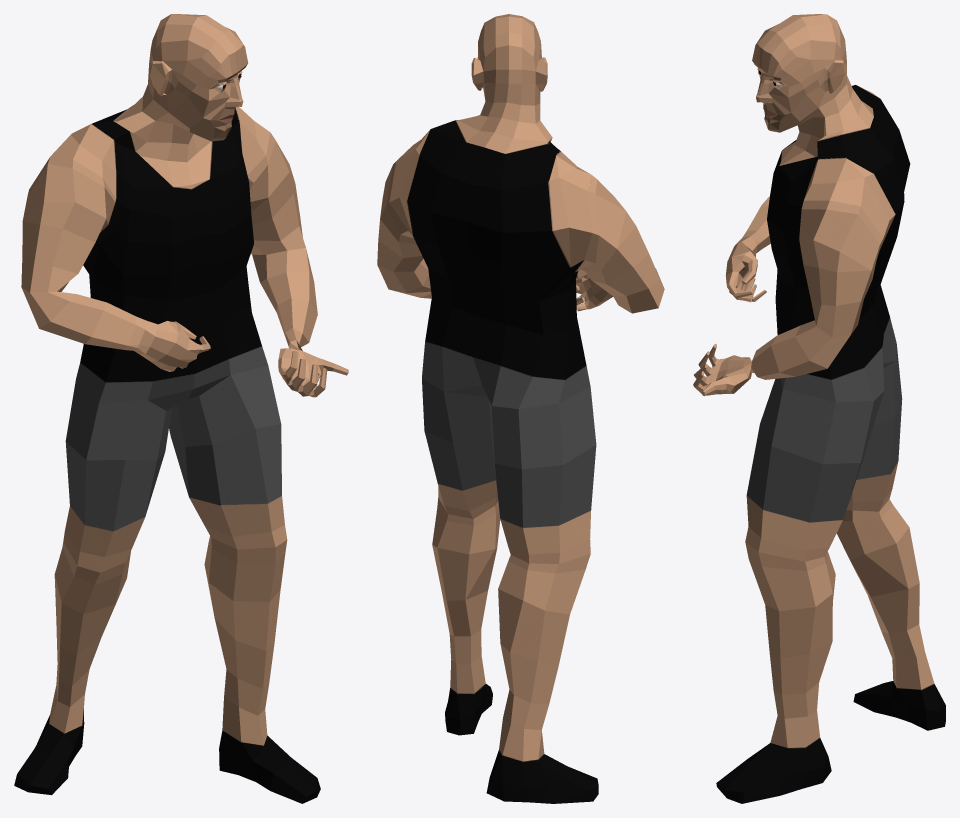
File: PlayerIdle(114).obj
The picture shows the model from 3 angles, left to right: view 1: azimuth 30°, elevation 25°; view 2: azimuth 150°, elevation 25°; view 3: azimuth 270°, elevation 25°; orthographic projection. The views are drawn at different scales.
Parts seen in each view (by area): view 1: Plane002; view 2: Plane002; view 3: Plane002.
Boxes of the visible parts, <box> form: Plane002: <box>14,14,348,803</box>; Plane002: <box>377,14,664,803</box>; Plane002: <box>693,14,945,803</box>.
Size of the model in its own units: 702 by 1803 by 556.
